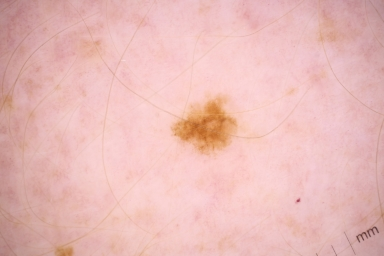nevus: (173, 97, 236, 154)
